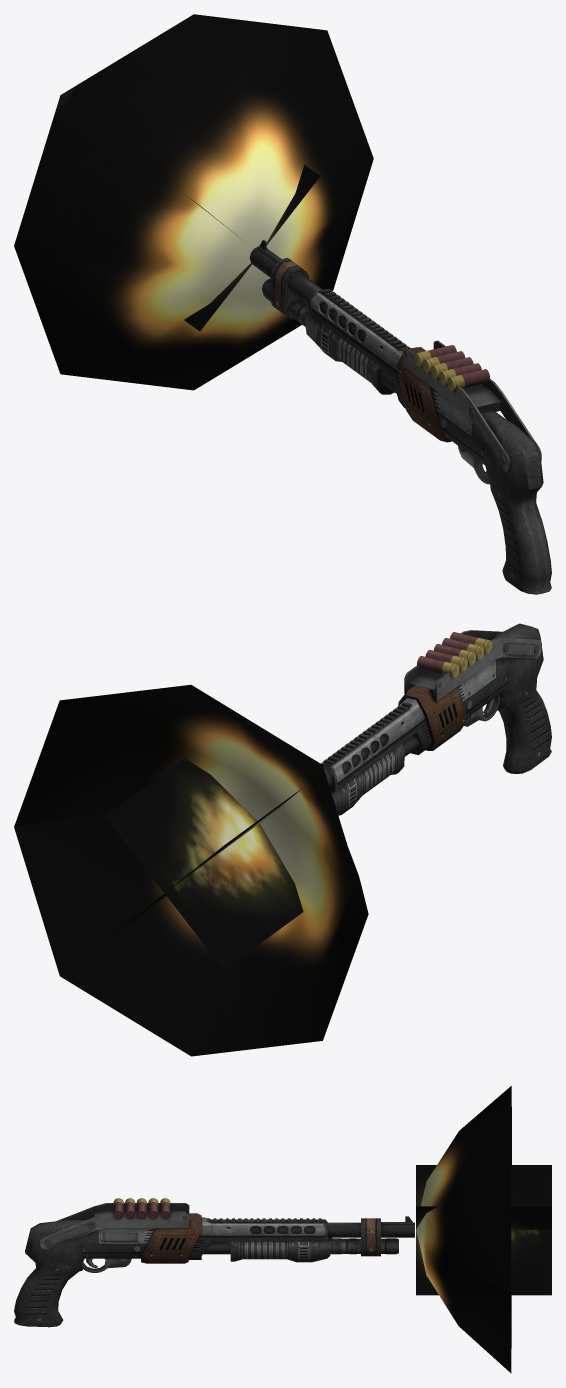
File: TP_Disposition_AutodeskFBX2011.fbx
3 renders of one model, top to bottom at view 1: azimuth 30°, elevation 25°; view 2: azimuth 150°, elevation 25°; view 3: azimuth 270°, elevation 25°, orthographic. The views are drawn at different scales.
Visible parts, largest first — view 1: Disposition_MuzzleFlash3_LOD300, Disposition_LOD100, Disposition_LOD300, Disposition_LOD200; view 2: Disposition_MuzzleFlash3_LOD300, Disposition_LOD300, Disposition_LOD100, Disposition_LOD200; view 3: Disposition_MuzzleFlash3_LOD300, Disposition_LOD100, Disposition_LOD300, Disposition_LOD200.
Part boxes in pixels (x1,y1,x2,y2): Disposition_MuzzleFlash3_LOD300: (14, 14, 373, 390); Disposition_LOD100: (252, 240, 551, 594); Disposition_LOD300: (250, 240, 549, 594); Disposition_LOD200: (249, 246, 489, 475); Disposition_MuzzleFlash3_LOD300: (14, 684, 368, 1056); Disposition_LOD300: (321, 623, 551, 813); Disposition_LOD100: (320, 626, 551, 815); Disposition_LOD200: (324, 632, 492, 798); Disposition_MuzzleFlash3_LOD300: (416, 1086, 551, 1373); Disposition_LOD100: (14, 1198, 414, 1326); Disposition_LOD300: (14, 1198, 414, 1327); Disposition_LOD200: (94, 1198, 414, 1266).
Size of what is drawn, in the model's own units: 25.42 by 25.43 by 46.79.
